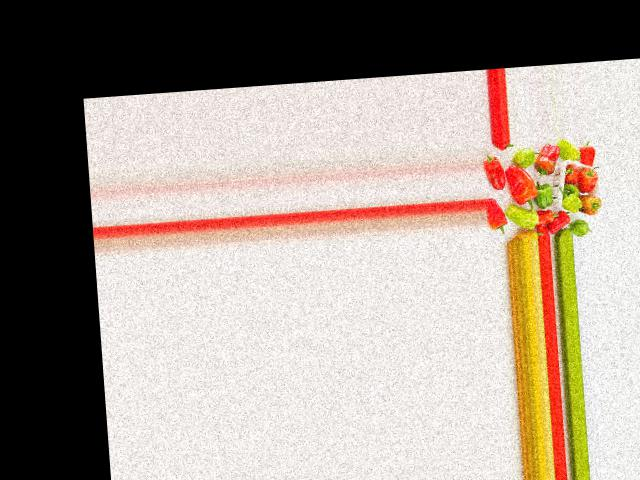bell_pepper: (485, 201, 510, 236)
